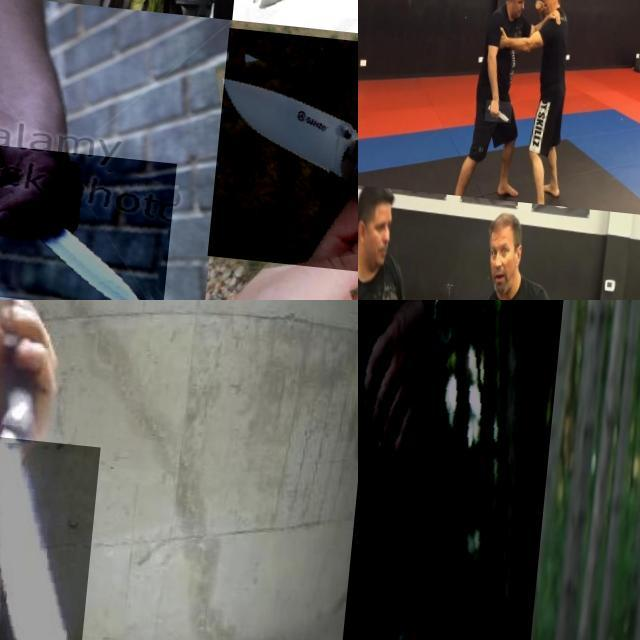-: (219, 20, 358, 267), (0, 138, 187, 300), (0, 429, 106, 640), (251, 0, 358, 137), (490, 90, 518, 112), (358, 12, 371, 54), (358, 262, 372, 300), (74, 0, 103, 9)
gun-knife-thesis - v11 Yolov5 augmented: (358, 300, 579, 640)
